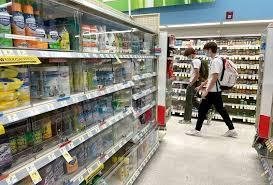Normal: (87, 13, 259, 156)
